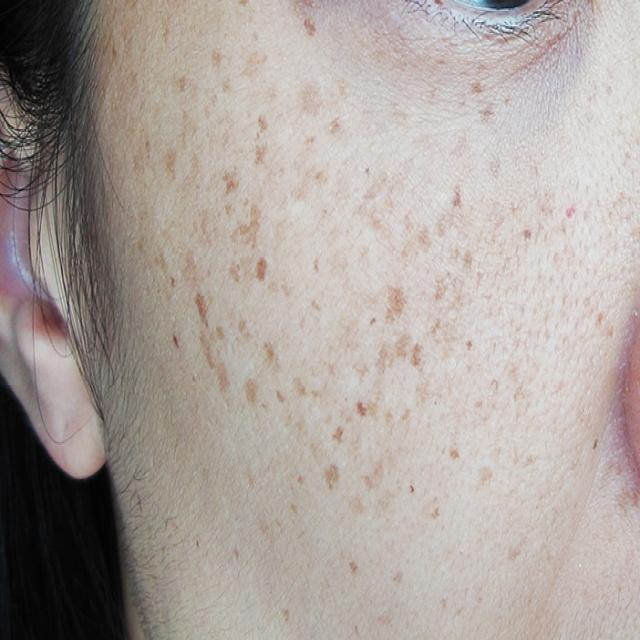Dark-Spots: (110, 3, 636, 585)
